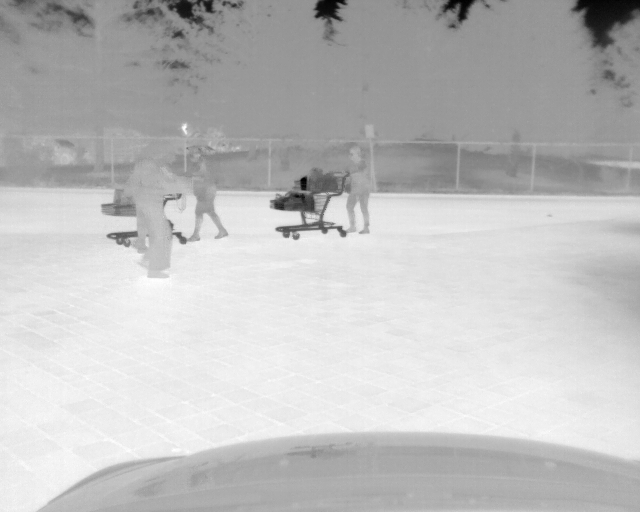people: (126, 140, 178, 279), (185, 144, 229, 244), (343, 144, 374, 235)
